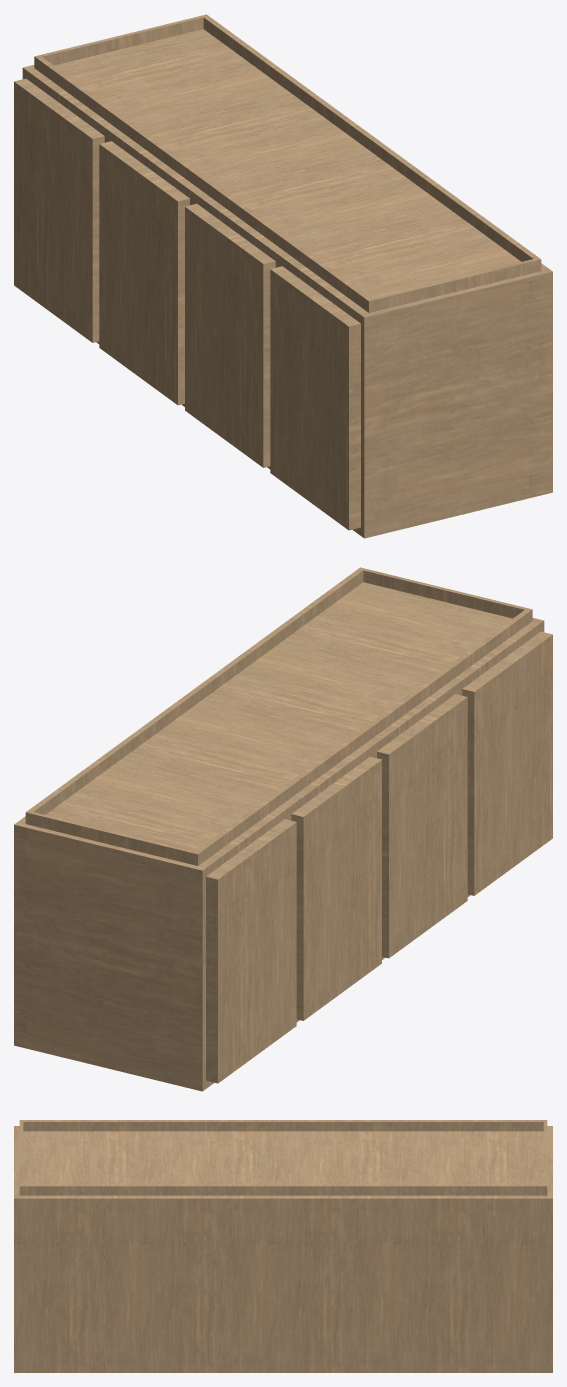
Rendered from Cabinet_01.fbx.
3 renders of one model, top to bottom at view 1: azimuth 30°, elevation 25°; view 2: azimuth 150°, elevation 25°; view 3: azimuth 270°, elevation 25°, orthographic. The views are drawn at different scales.
Visible parts, largest first — view 1: propCabinet_01; view 2: propCabinet_01; view 3: propCabinet_01.
Part boxes in pixels (<box>): propCabinet_01: <box>14,14,552,538</box>; propCabinet_01: <box>14,567,552,1091</box>; propCabinet_01: <box>14,1120,552,1372</box>.
Bounding box in the file's own units: 74.27 × 82.25 × 219.
1 material, 1 textured.
